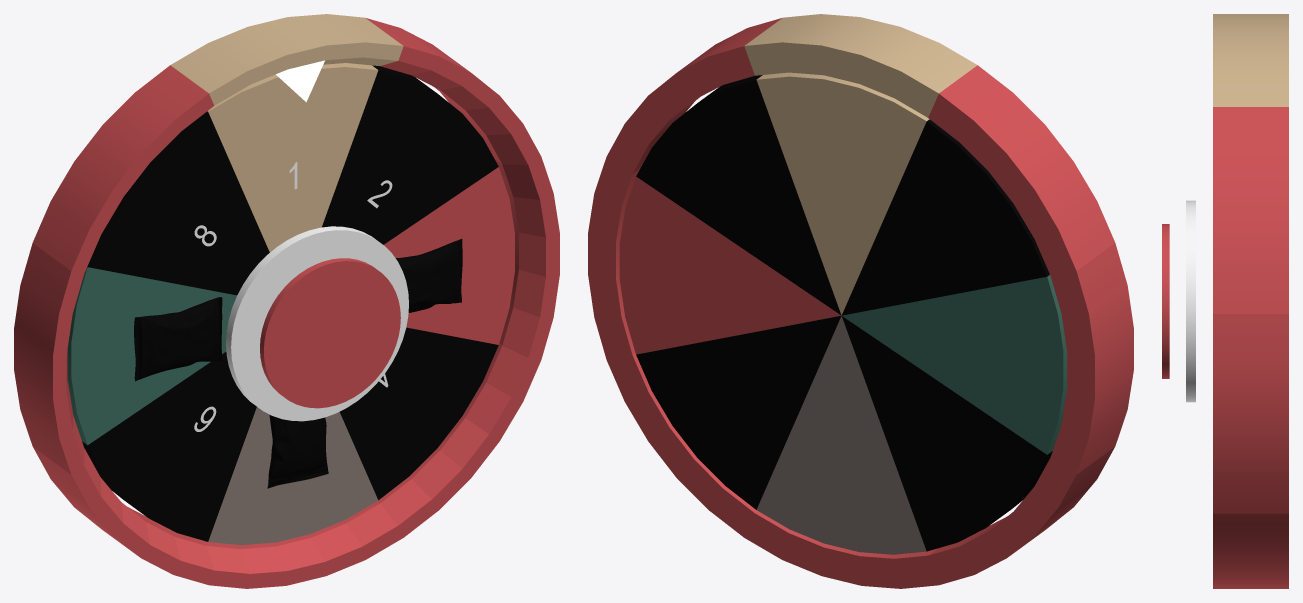
File: wheel-old.glb
The picture shows the model from 3 angles, left to right: view 1: azimuth 30°, elevation 25°; view 2: azimuth 150°, elevation 25°; view 3: azimuth 270°, elevation 25°; orthographic projection. The views are drawn at different scales.
Visible parts, largest first — view 1: model 8, model, model 6, model 2, Wheel Button, model 7, model 4, model 16, skp3JuhD1 (×3), model 5, model 3, Wheel Inner (+8 smaller); view 2: model 7, model, model 8, model 6, model 2, model 3, model 5, model 4, model 16, model 15, model 9, model 14 (+4 smaller); view 3: model 10, model 11, model 9, model 12, Wheel Inner, Wheel Button.
Boxes of the visible parts, x1,y1,x2,y2 form: model 8: (87,111,269,295); model: (207,63,378,252); model 6: (82,352,256,541); model 2: (322,65,498,244); Wheel Button: (260,258,400,408); model 7: (67,267,236,445); model 4: (340,327,498,500); model 16: (32,65,214,273); skp3JuhD1 (×3): (134,238,462,488); model 5: (208,407,378,545); model 3: (384,167,514,344); Wheel Inner: (226,226,408,421); model 7: (842,275,1067,454); model: (756,72,929,315); model 8: (842,119,1049,315); model 6: (842,316,1052,551); model 2: (636,75,841,315); model 3: (619,176,840,354); model 5: (756,316,926,554); model 4: (636,315,841,509); model 16: (928,65,1115,275); model 15: (1050,243,1133,474); model 9: (744,14,977,117); model 14: (928,447,1114,585); model 10: (1213,107,1288,313); model 11: (1213,314,1288,513); model 9: (1213,14,1288,106); model 12: (1213,513,1288,588); Wheel Inner: (1186,200,1195,402); Wheel Button: (1162,224,1169,378).
Bounding box in the file's own units: 1.14 × 1.14 × 0.252.
